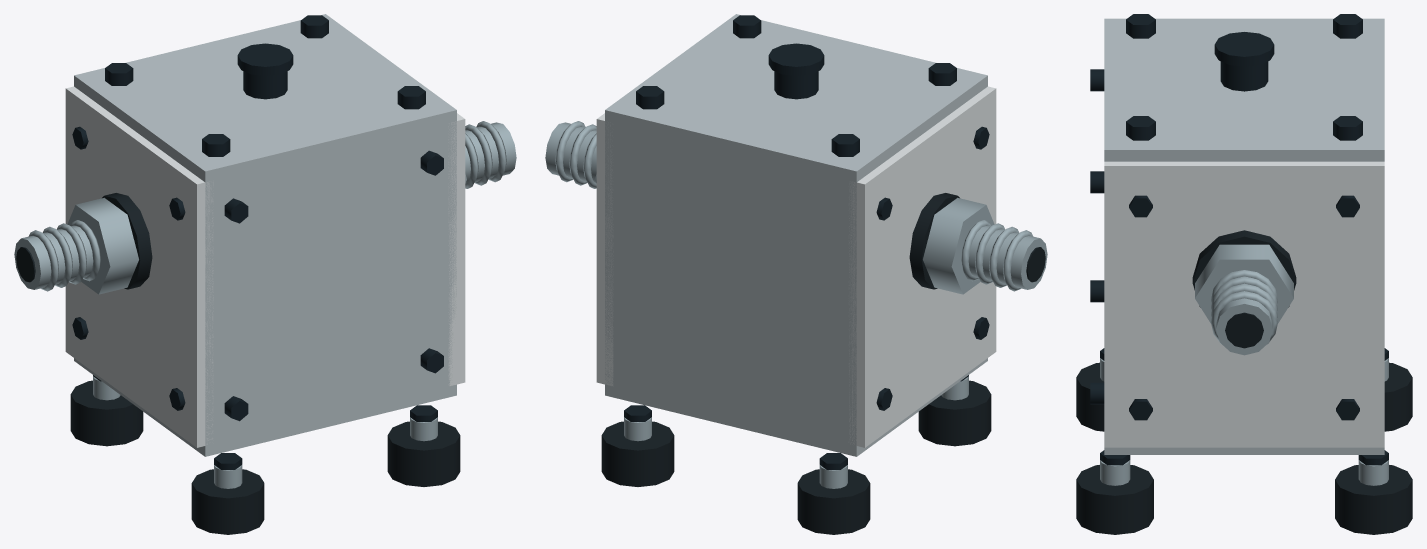
The model's file is heat-block-low.glb.
3 views of the same model, side by side, from view 1: azimuth 30°, elevation 25°; view 2: azimuth 150°, elevation 25°; view 3: azimuth 270°, elevation 25° (orthographic). The views are drawn at different scales.
Visible parts, largest first — view 1: satin-aluminium, machined-edge, matte-polymer, stainless-steel, black-anodised; view 2: satin-aluminium, machined-edge, matte-polymer, stainless-steel, black-anodised; view 3: machined-edge, satin-aluminium, matte-polymer, black-anodised, stainless-steel.
Boxes of the visible parts, x1,y1,x2,y2 form: satin-aluminium: [74, 14, 456, 456]; machined-edge: [65, 86, 465, 447]; matte-polymer: [16, 193, 460, 534]; stainless-steel: [14, 121, 516, 488]; black-anodised: [72, 15, 443, 469]; satin-aluminium: [605, 14, 987, 456]; machined-edge: [596, 86, 996, 447]; matte-polymer: [601, 193, 1045, 534]; stainless-steel: [545, 121, 1047, 488]; black-anodised: [624, 15, 989, 469]; machined-edge: [1104, 161, 1384, 447]; satin-aluminium: [1104, 18, 1384, 454]; matte-polymer: [1076, 230, 1412, 534]; black-anodised: [1090, 14, 1388, 465]; stainless-steel: [1100, 244, 1388, 485].
Size of the model in its own units: 1.37 by 1.08 by 0.78.
